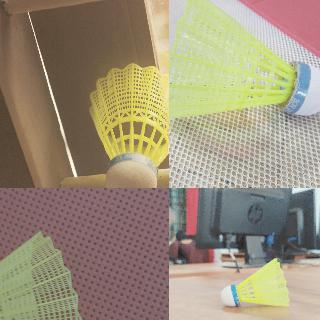shuttlecock: (169, 0, 319, 122), (89, 63, 168, 187), (0, 231, 82, 319), (220, 259, 290, 307)
